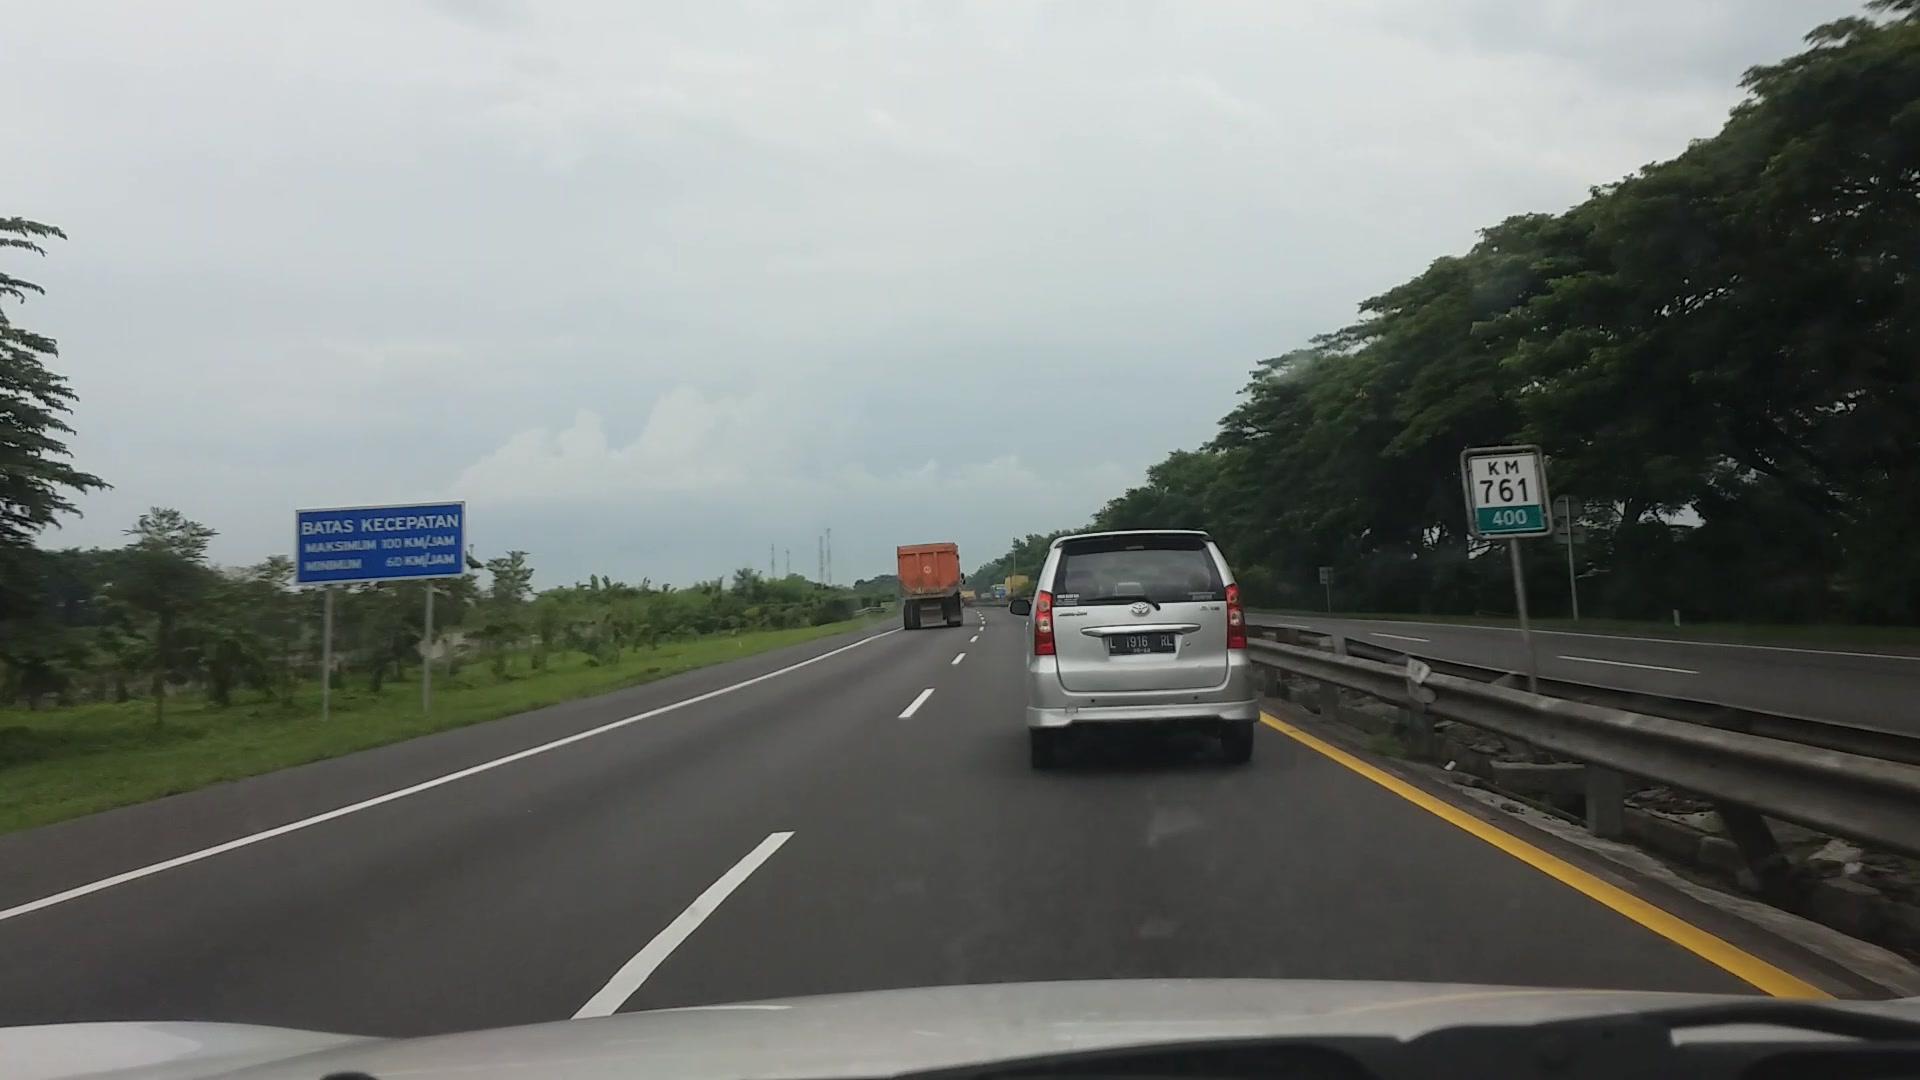plate_positive: (1106, 632, 1175, 655)
